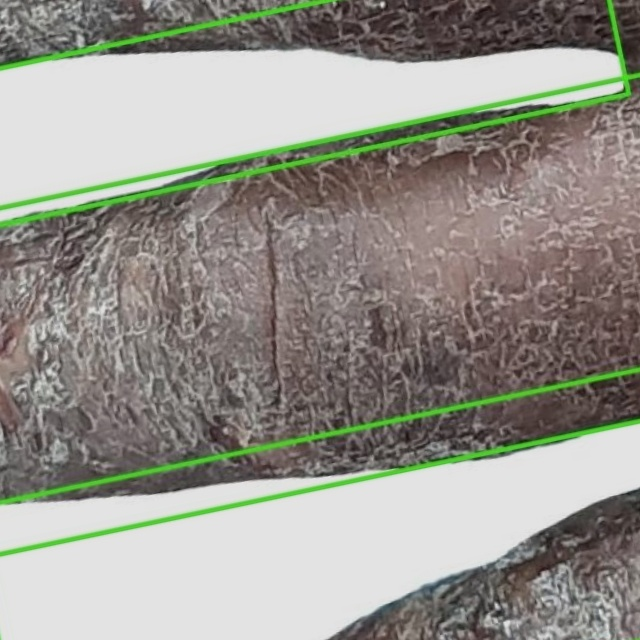Eczema: (0, 76, 639, 555), (0, 369, 639, 639), (0, 0, 628, 224)
